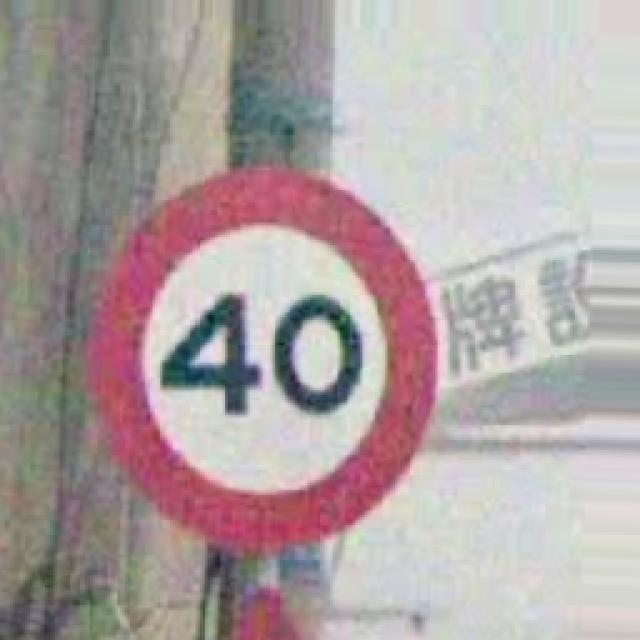Speed Limit -40-: (92, 168, 435, 552)
